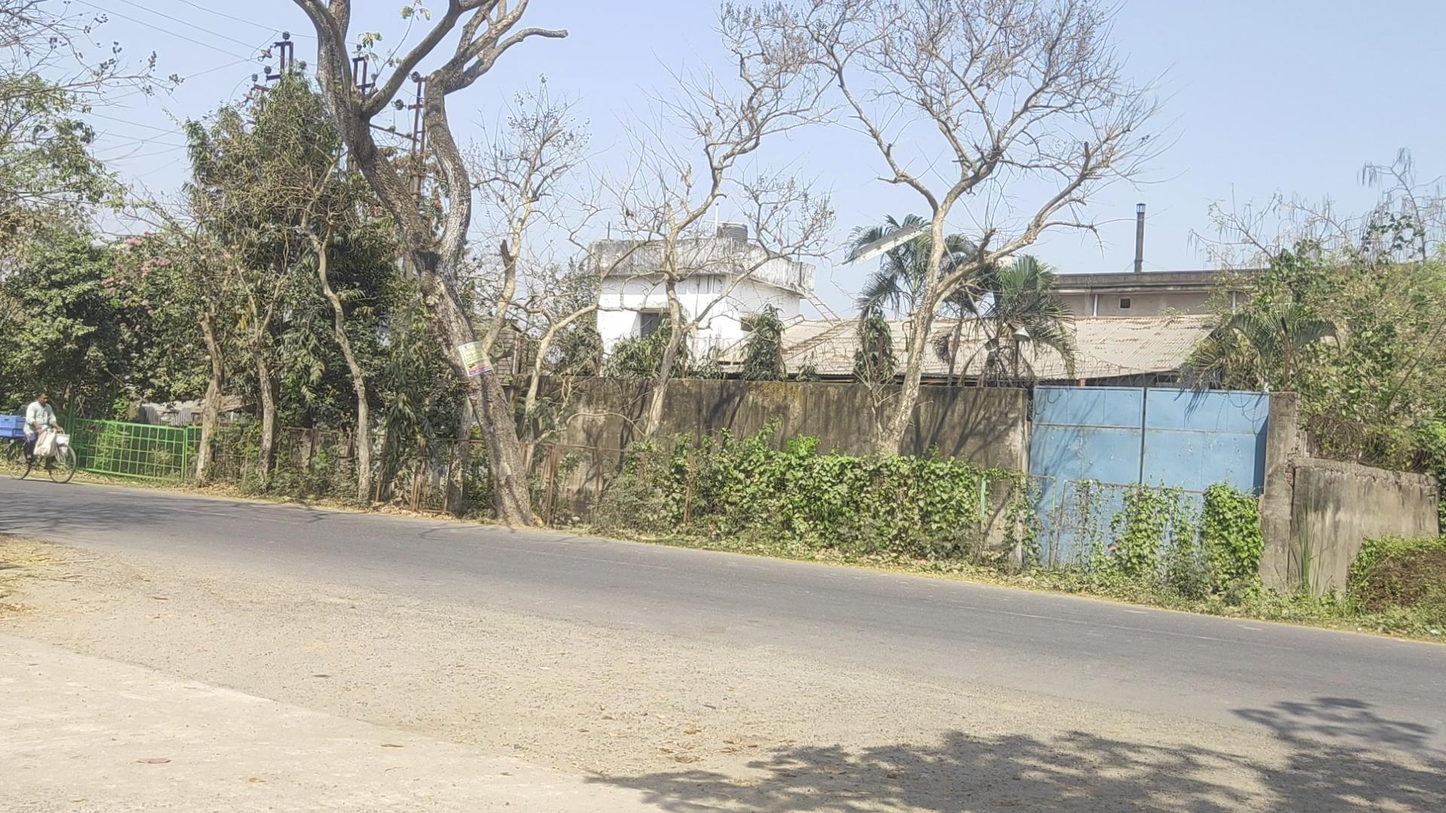bike: (1, 391, 77, 483)
